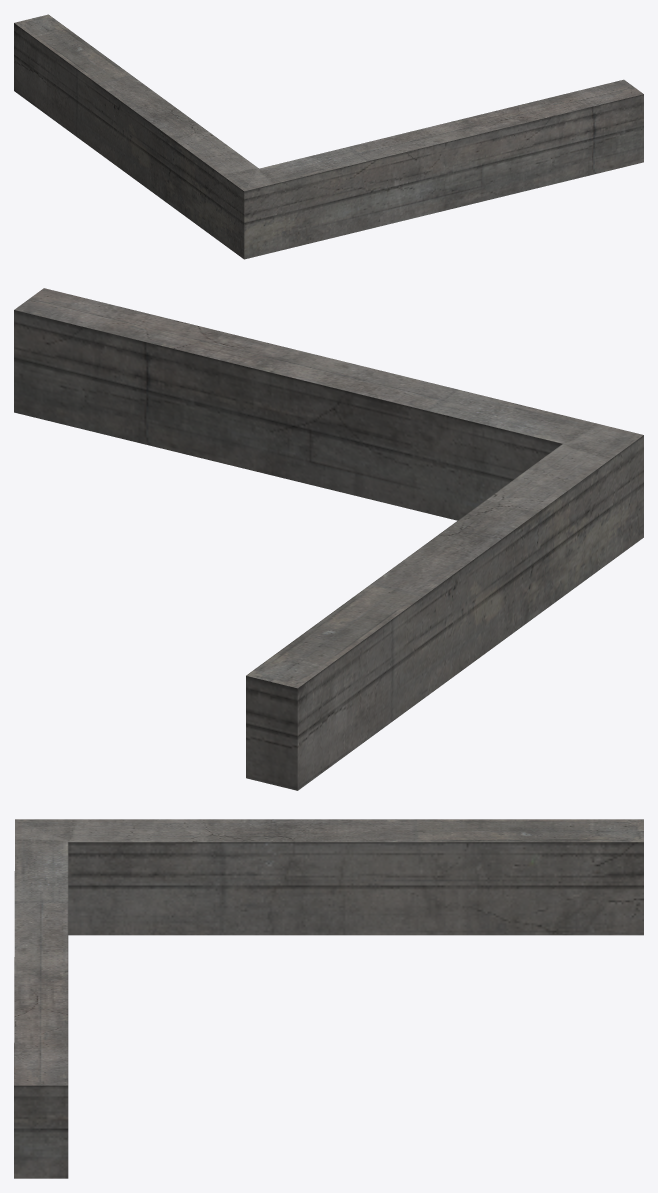
File: CP_Cornice_C_Angle_Out.fbx
3 views of the same model, one above another, from view 1: azimuth 30°, elevation 25°; view 2: azimuth 150°, elevation 25°; view 3: azimuth 270°, elevation 25° (orthographic). The views are drawn at different scales.
Parts seen in each view (by area): view 1: CP_Cornice_C_Angle_Out; view 2: CP_Cornice_C_Angle_Out; view 3: CP_Cornice_C_Angle_Out.
Boxes of the visible parts, x1,y1,x2,y2 form: CP_Cornice_C_Angle_Out: (14,14,643,259); CP_Cornice_C_Angle_Out: (14,288,643,790); CP_Cornice_C_Angle_Out: (14,819,643,1178).
Size of the model in its own units: 219 by 35.69 by 219.
